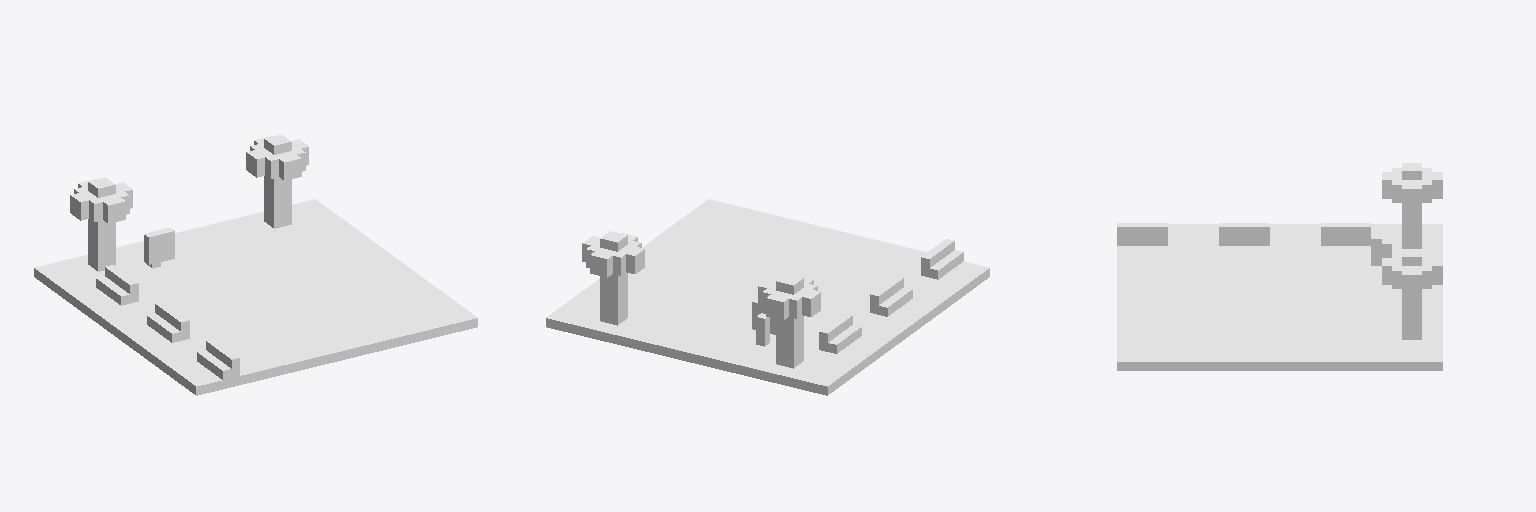
Rendered from lake1.obj.
3 renders of one model, left to right at view 1: azimuth 30°, elevation 25°; view 2: azimuth 150°, elevation 25°; view 3: azimuth 270°, elevation 25°, orthographic.
Visible parts, largest first — view 1: object 1; view 2: object 1; view 3: object 1.
Boxes of the visible parts, x1=… form: object 1: x1=34, y1=134, x2=477, y2=395; object 1: x1=546, y1=199, x2=989, y2=395; object 1: x1=1117, y1=163, x2=1442, y2=370.
Size of the model in its own units: 3.2 by 1 by 3.2.